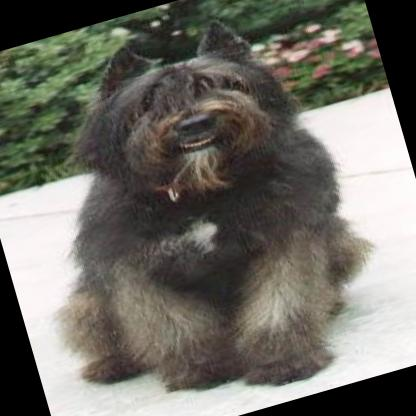Bouvier_des_Flandres: (0, 0, 396, 416)
